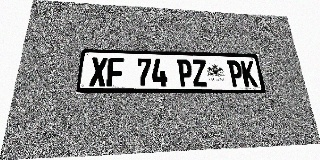4: (152, 58, 168, 87)
7: (136, 58, 152, 87)
F: (106, 57, 124, 87)
K: (240, 61, 258, 87)
P: (227, 60, 244, 87), (177, 59, 193, 87)
X: (89, 57, 108, 87)
Z: (191, 59, 208, 87)
